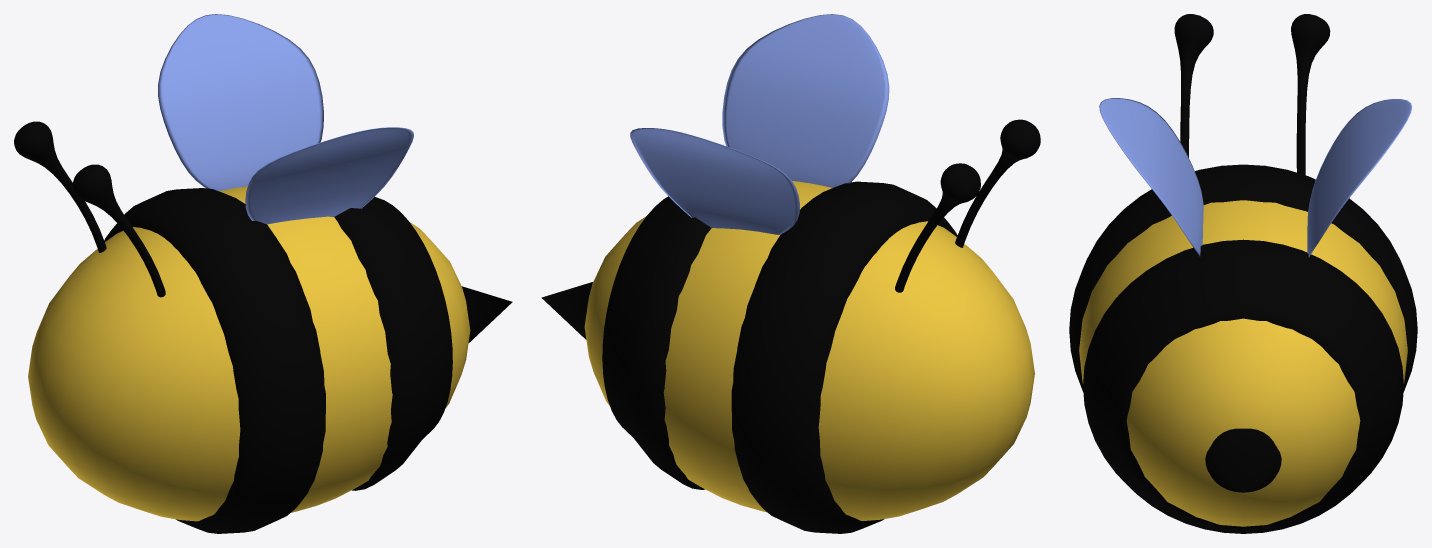
File: bee.fbx
3 views of the same model, side by side, from view 1: azimuth 30°, elevation 25°; view 2: azimuth 150°, elevation 25°; view 3: azimuth 270°, elevation 25° (orthographic). The views are drawn at different scales.
Visible parts, largest first — view 1: Sphere, Torus, Plane.011, Torus.001, Plane.012, Vert.001, Vert.002, Cone; view 2: Sphere, Torus, Plane.012, Torus.001, Plane.011, Vert.002, Vert.001, Cone; view 3: Sphere, Torus.001, Torus, Plane.012, Plane.011, Cone, Vert.002, Vert.001.
Part boxes in pixels (left/top/right/bottom): Sphere: left=28, top=186, right=470, bottom=521; Torus: left=104, top=188, right=325, bottom=533; Plane.011: left=158, top=14, right=323, bottom=191; Torus.001: left=334, top=197, right=452, bottom=490; Plane.012: left=245, top=127, right=413, bottom=224; Vert.001: left=72, top=164, right=165, bottom=297; Vert.002: left=14, top=121, right=106, bottom=252; Cone: left=462, top=286, right=512, bottom=342; Sphere: left=584, top=181, right=1034, bottom=520; Torus: left=731, top=181, right=957, bottom=533; Plane.012: left=722, top=14, right=889, bottom=187; Torus.001: left=602, top=196, right=711, bottom=489; Plane.011: left=630, top=128, right=799, bottom=234; Vert.002: left=895, top=163, right=980, bottom=292; Vert.001: left=955, top=119, right=1040, bottom=247; Cone: left=541, top=282, right=592, bottom=339; Sphere: left=1079, top=200, right=1407, bottom=526; Torus.001: left=1083, top=239, right=1403, bottom=533; Torus: left=1069, top=164, right=1417, bottom=391; Plane.012: left=1099, top=98, right=1203, bottom=256; Plane.011: left=1307, top=99, right=1411, bottom=257; Cone: left=1205, top=428, right=1281, bottom=492; Vert.002: left=1291, top=14, right=1330, bottom=175; Vert.001: left=1174, top=14, right=1213, bottom=157.
Bounding box in the file's own units: 327 × 282 × 212.
